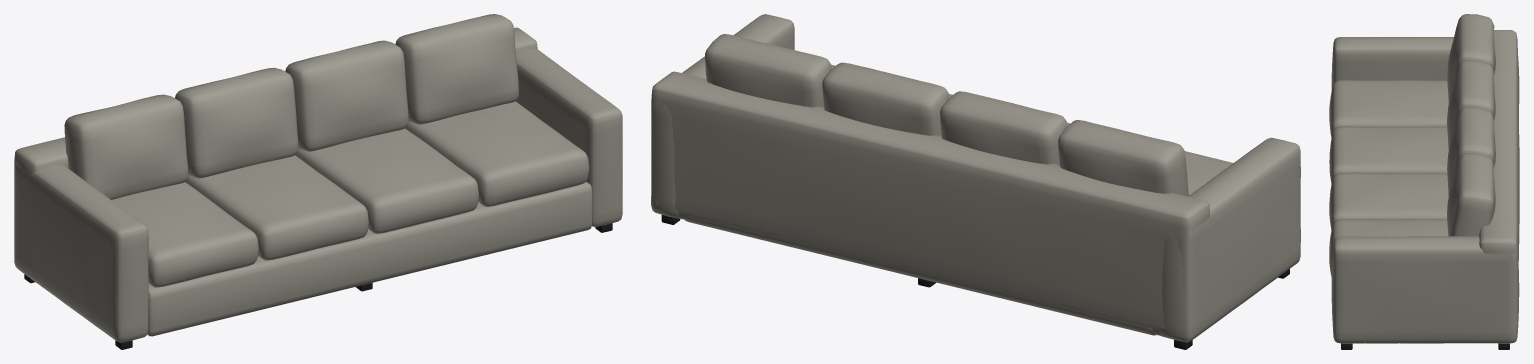
Rendered from sofa_moderno_4p.glb.
3 renders of one model, left to right at view 1: azimuth 30°, elevation 25°; view 2: azimuth 150°, elevation 25°; view 3: azimuth 270°, elevation 25°, orthographic. The views are drawn at different scales.
Visible parts, largest first — view 1: sofa_moderno_4p; view 2: sofa_moderno_4p; view 3: sofa_moderno_4p.
Boxes of the visible parts, bbox=[...] form: sofa_moderno_4p: bbox=[14, 14, 622, 349]; sofa_moderno_4p: bbox=[651, 14, 1300, 349]; sofa_moderno_4p: bbox=[1329, 14, 1519, 349].
Bounding box in the file's own units: 2.61 × 0.8271 × 0.9809.
Materials: 2 (1 with a texture image).
